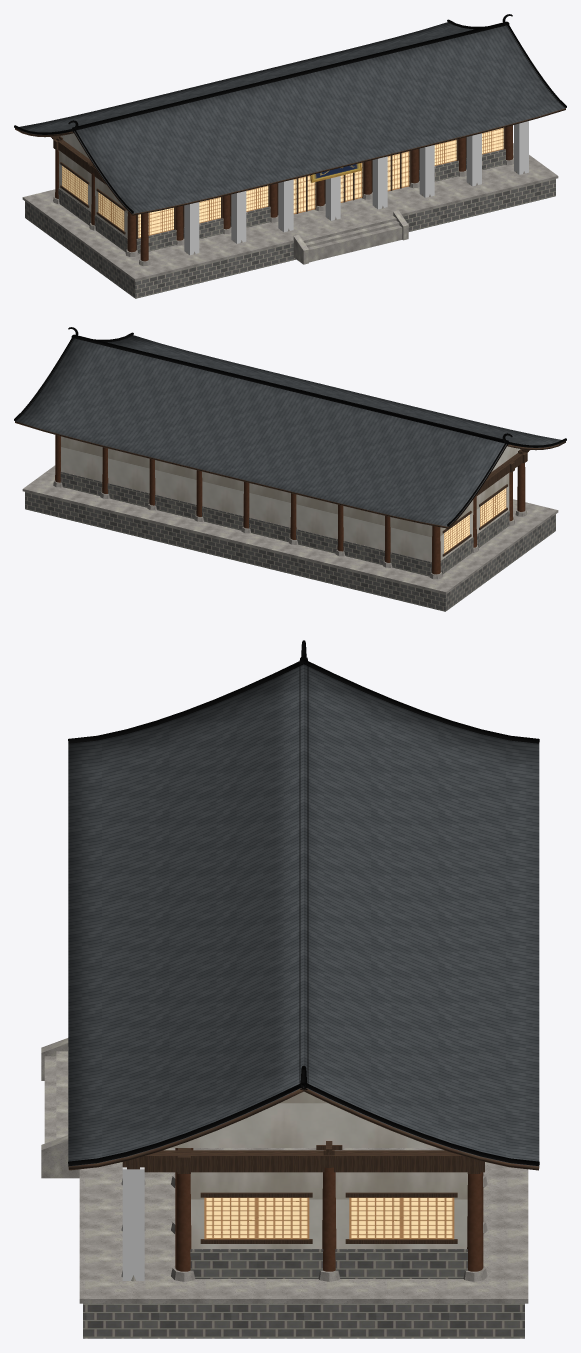
File: barracks.glb
3 renders of one model, top to bottom at view 1: azimuth 30°, elevation 25°; view 2: azimuth 150°, elevation 25°; view 3: azimuth 270°, elevation 25°, orthographic. The views are drawn at different scales.
Visible parts, largest first — view 1: BarracksRoof, BarracksPodiumCap, BarracksPodiumBase, BarracksLattice, BarracksColumns, BarracksDado, BarracksRoofRidge, BarracksStairsfront, BarracksFrames, BarracksWalls, BarracksVCol-convcolonly.001, BarracksVCol-convcolonly.002 (+9 smaller); view 2: BarracksRoof, BarracksWalls, BarracksPodiumBase, BarracksPodiumCap, BarracksDado, BarracksColumns, BarracksRoofRidge, BarracksLattice, BarracksColumnBases, BarracksBeams, BarracksFrames; view 3: BarracksRoof, BarracksPodiumCap, BarracksPodiumBase, BarracksWalls, BarracksLattice, BarracksDado, BarracksBeams, BarracksRoofRidge, BarracksGables, BarracksColumns, BarracksVCol-convcolonly.008, BarracksFrames (+3 smaller).
Boxes of the visible parts, box(x1,y1,x2,y2) form: BarracksRoof: box(15, 22, 565, 215); BarracksPodiumCap: box(22, 143, 558, 281); BarracksPodiumBase: box(25, 179, 555, 298); BarracksLattice: box(62, 127, 503, 238); BarracksColumns: box(55, 125, 513, 261); BarracksDado: box(58, 149, 505, 253); BarracksRoofRidge: box(14, 14, 566, 213); BarracksStairsfront: box(302, 216, 402, 262); BarracksFrames: box(60, 127, 505, 238); BarracksWalls: box(58, 150, 127, 238); BarracksVCol-convcolonly.001: box(184, 202, 199, 255); BarracksVCol-convcolonly.002: box(231, 191, 246, 243); BarracksRoof: box(15, 335, 565, 528); BarracksWalls: box(61, 436, 509, 561); BarracksPodiumBase: box(25, 492, 555, 611); BarracksPodiumCap: box(22, 465, 558, 594); BarracksDado: box(60, 471, 509, 576); BarracksColumns: box(55, 435, 525, 574); BarracksRoofRidge: box(14, 327, 566, 526); BarracksLattice: box(444, 488, 506, 553); BarracksColumnBases: box(53, 479, 527, 579); BarracksBeams: box(476, 452, 527, 495); BarracksFrames: box(442, 484, 507, 556); BarracksRoof: box(68, 664, 539, 1170); BarracksPodiumCap: box(79, 1148, 528, 1303); BarracksPodiumBase: box(83, 1303, 524, 1338); BarracksWalls: box(190, 1172, 467, 1248); BarracksLattice: box(204, 1197, 454, 1239); BarracksDado: box(190, 1249, 467, 1278); BarracksBeams: box(122, 1148, 484, 1173); BarracksRoofRidge: box(68, 640, 539, 1166); BarracksGables: box(170, 1091, 436, 1147); BarracksColumns: box(175, 1148, 483, 1271); BarracksVCol-convcolonly.008: box(122, 1167, 144, 1280); BarracksFrames: box(200, 1192, 457, 1243).
Size of what is drawn, in the model's own units: 28.31 by 8.5 by 13.76.
11 materials, 11 textured.
